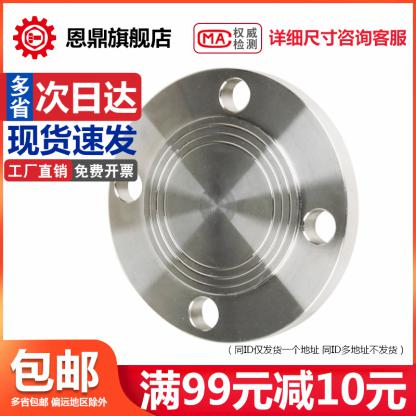FOD: (99, 67, 360, 345)
